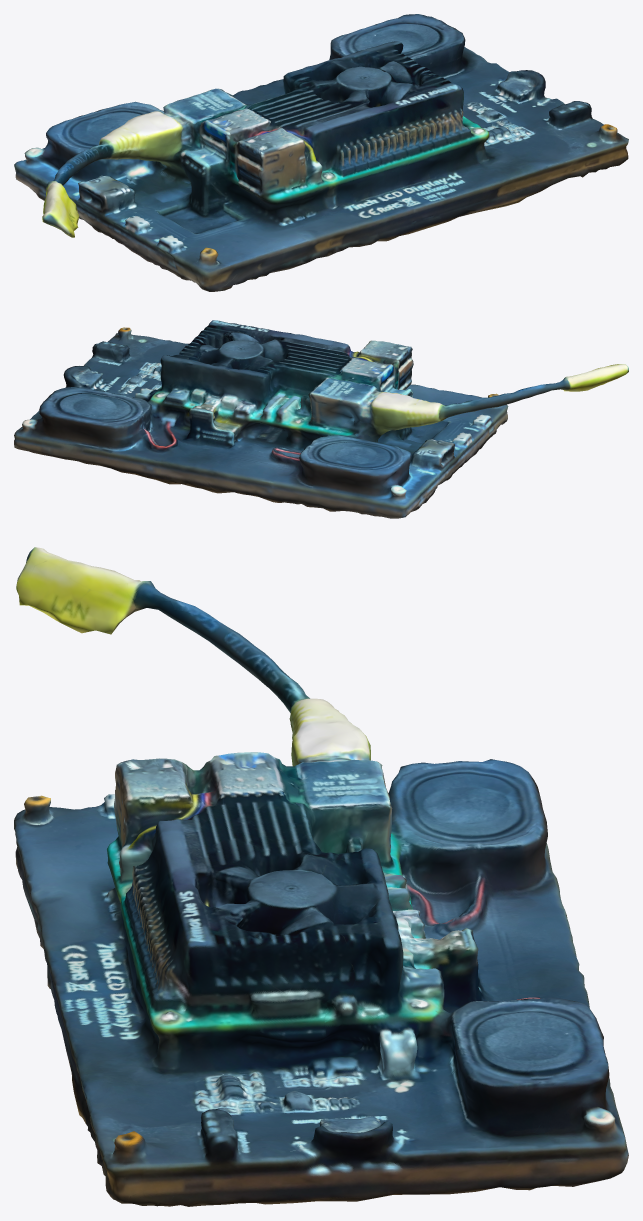
Rendered from 3DModel.obj.
3 renders of one model, top to bottom at view 1: azimuth 30°, elevation 25°; view 2: azimuth 150°, elevation 25°; view 3: azimuth 270°, elevation 25°, orthographic. The views are drawn at different scales.
Parts seen in each view (by area): view 1: submesh; view 2: submesh; view 3: submesh.
Part boxes in pixels (x1,y1,x2,y2): submesh: (14, 14, 628, 291); submesh: (14, 320, 628, 518); submesh: (14, 547, 628, 1206).
Bounding box in the file's own units: 0.2222 × 0.0426 × 0.1203.
1 material, 1 textured.
